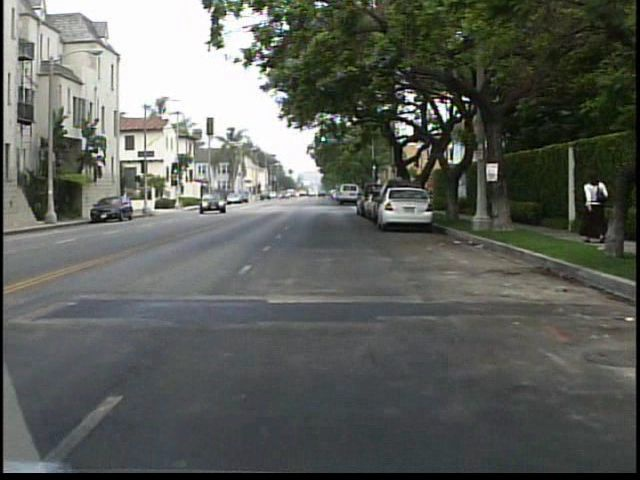person: (573, 165, 610, 248)
